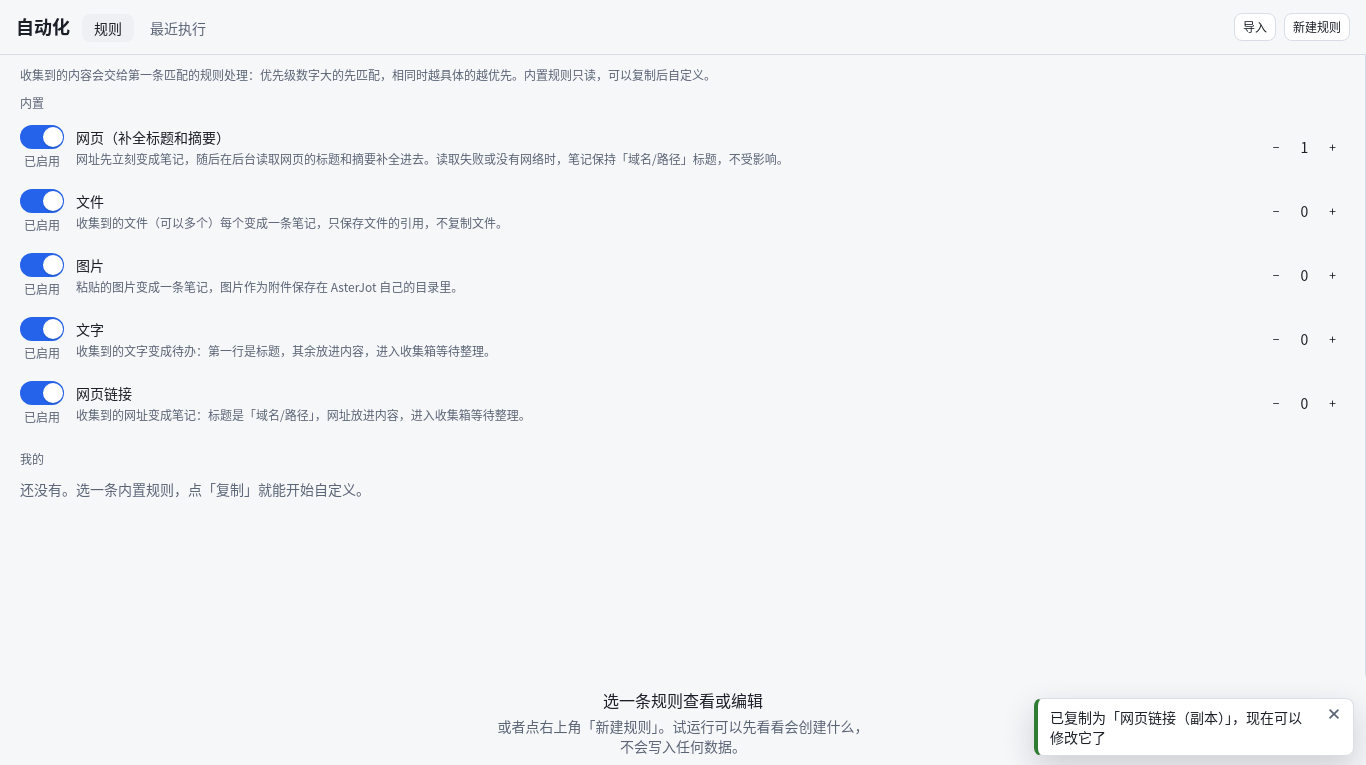
Workflow 管理页 › 有没保存的修改时换到别的规则会先提醒：继续编辑留在原处，放弃修改才换走
Click the button "网页链接 收集到的网址变成笔记：标题是「域名/路径」，网址放进内容，进入收集箱等待整理。" at (104, 393), box [76,383,1252,423]
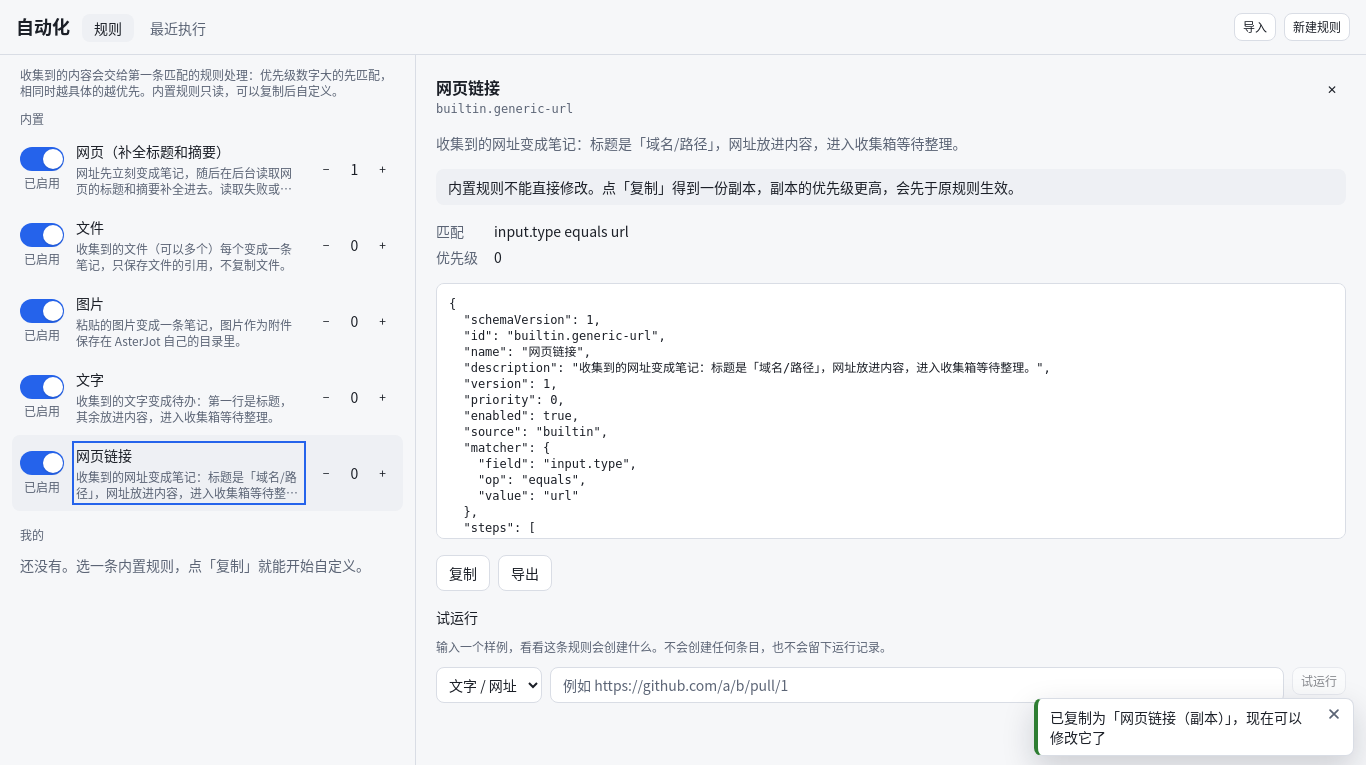
Click the button "复制" at (463, 573), box [436,555,490,591]
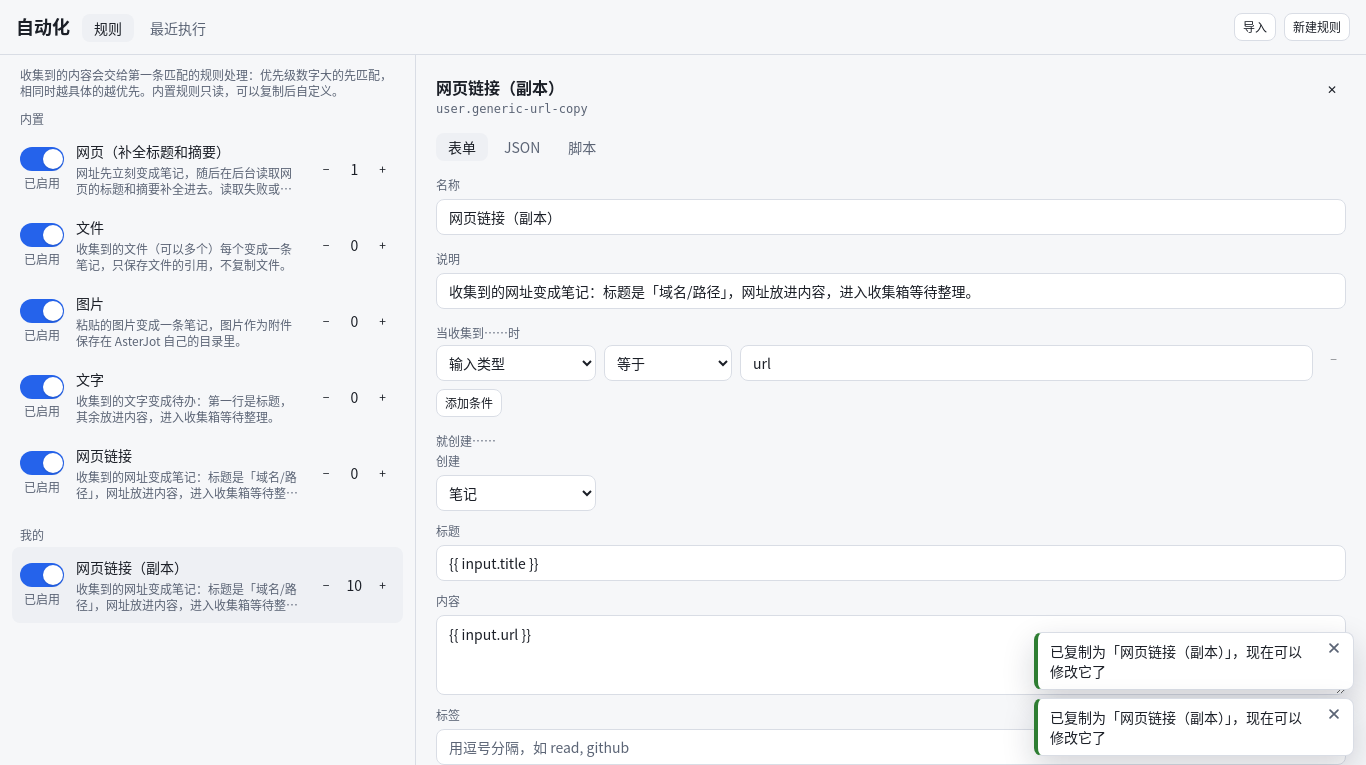
Check: the list named "我的" is shown, box [12,547,403,623]
Select "待办" in the dropdown labelled "创建" at (516, 493), box [436,475,596,511]
Click the button "网页链接 收集到的网址变成笔记：标题是「域名/路径」，网址放进内容，进入收集箱等待整理。" at (189, 473), box [76,445,302,501]
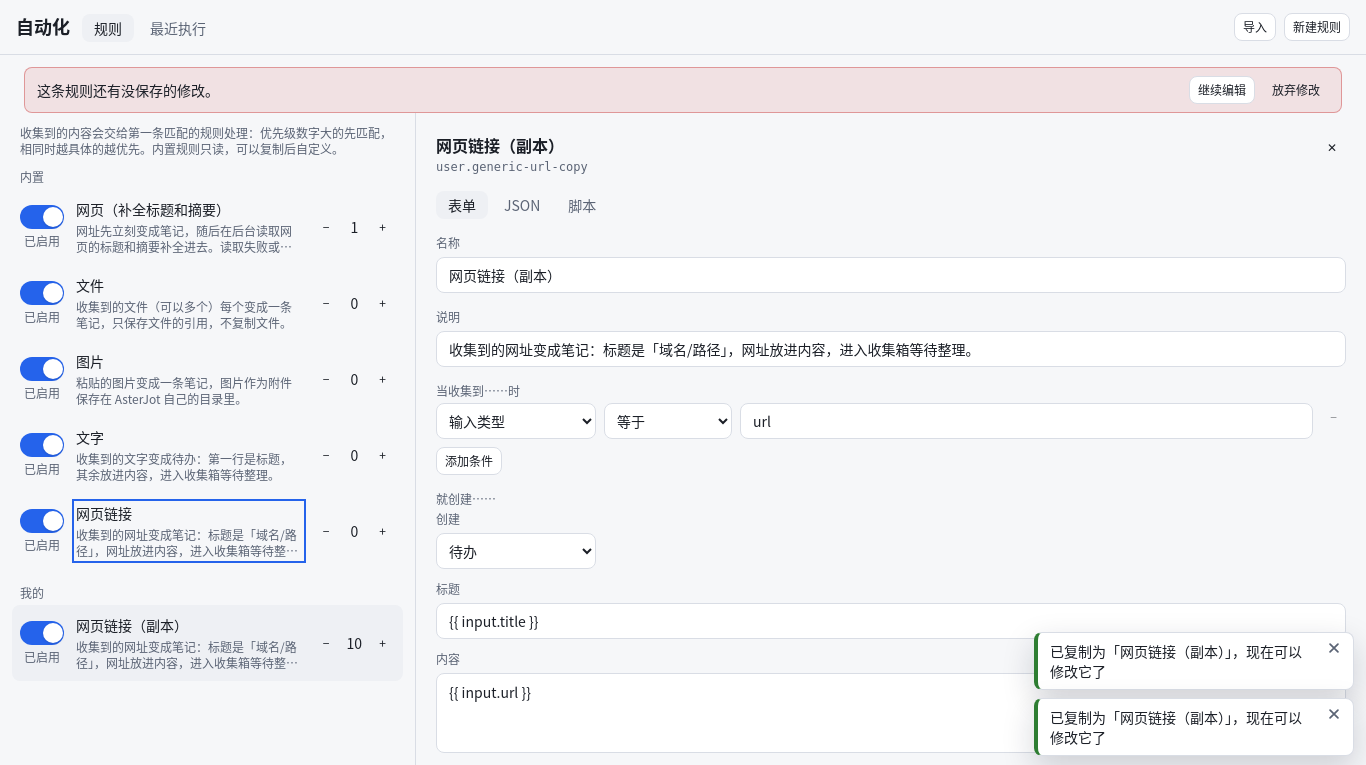
Check: the message "这条规则还有没保存的修改。 继续编辑 放弃修改" is shown, box [24,67,1342,113]
Click the button "继续编辑" at (1222, 90), box [1189,76,1255,104]
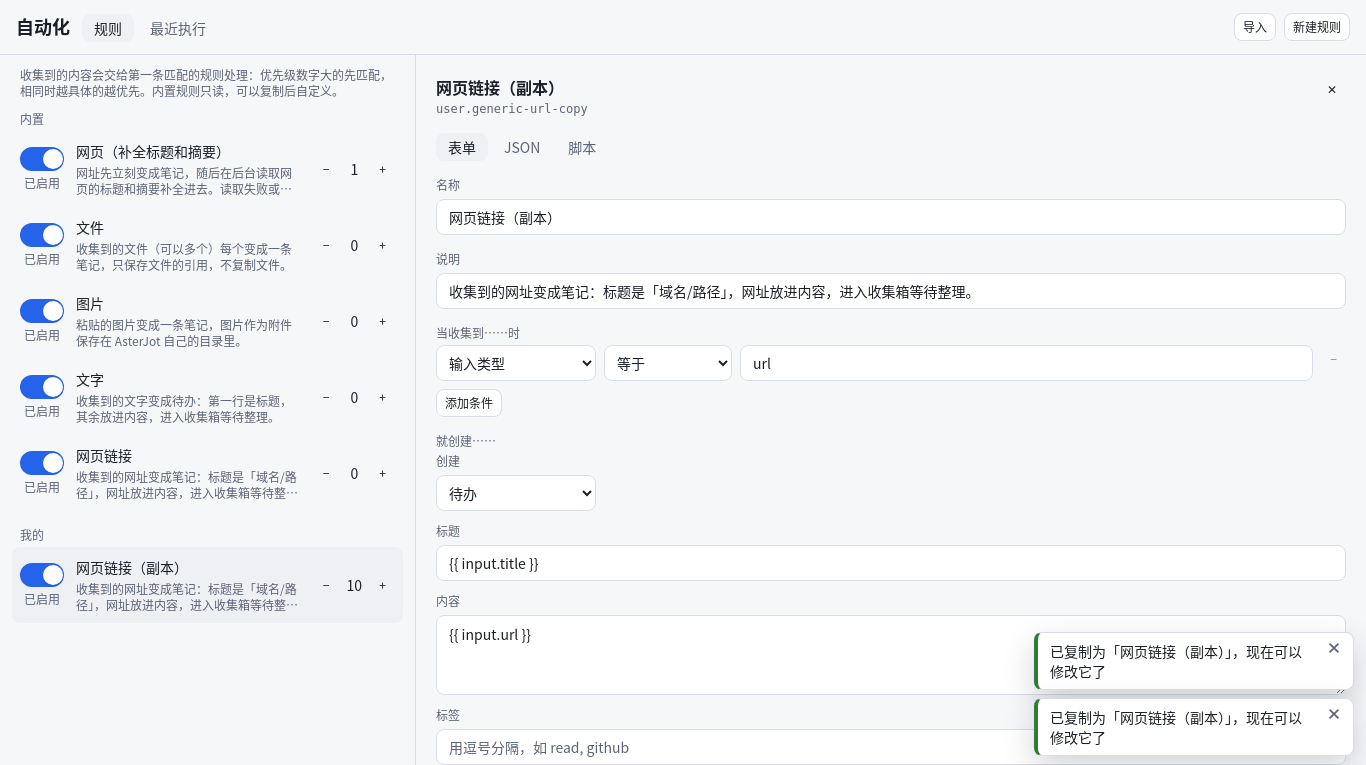
Check: the message "这条规则还有没保存的修改。 继续编辑 放弃修改" is gone
Click the button "网页链接 收集到的网址变成笔记：标题是「域名/路径」，网址放进内容，进入收集箱等待整理。" at (189, 473), box [76,445,302,501]
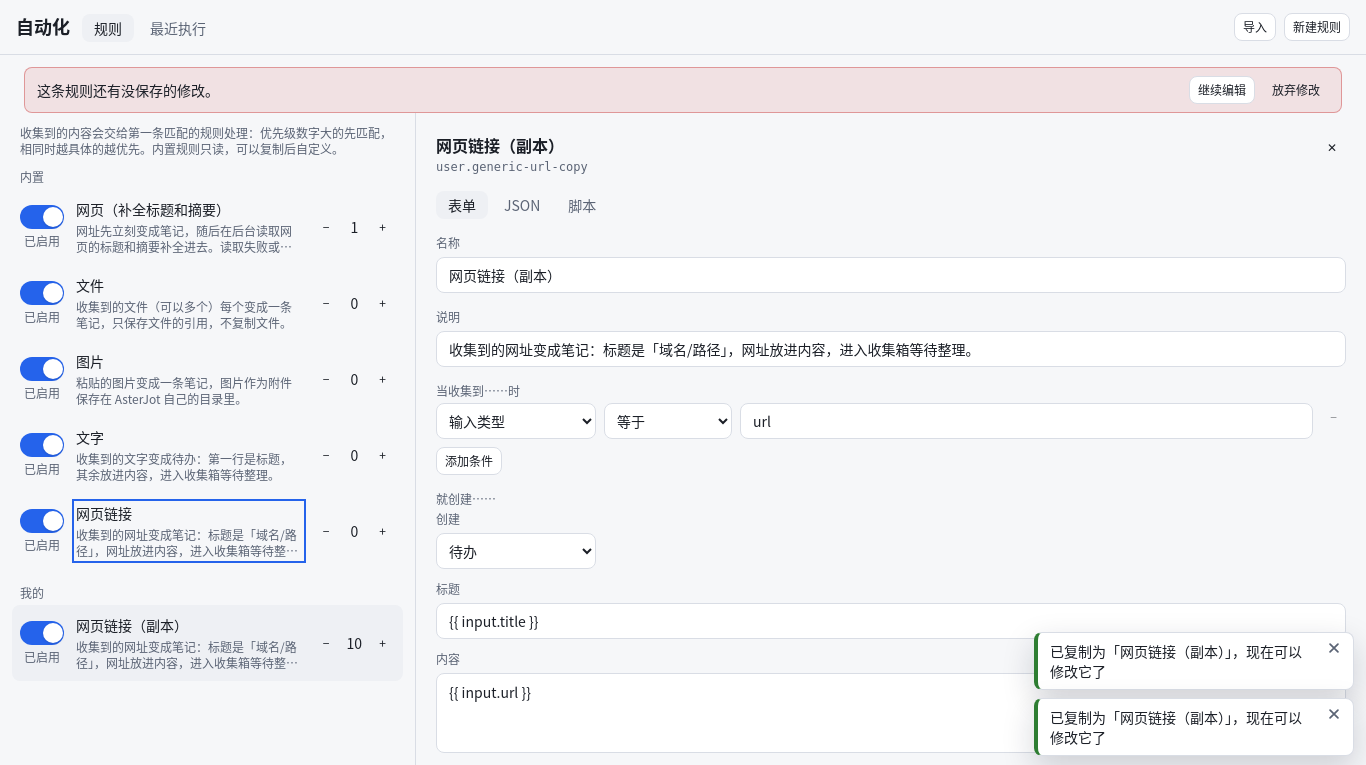
Click the button "放弃修改" at (1296, 90), box [1263,76,1329,104]
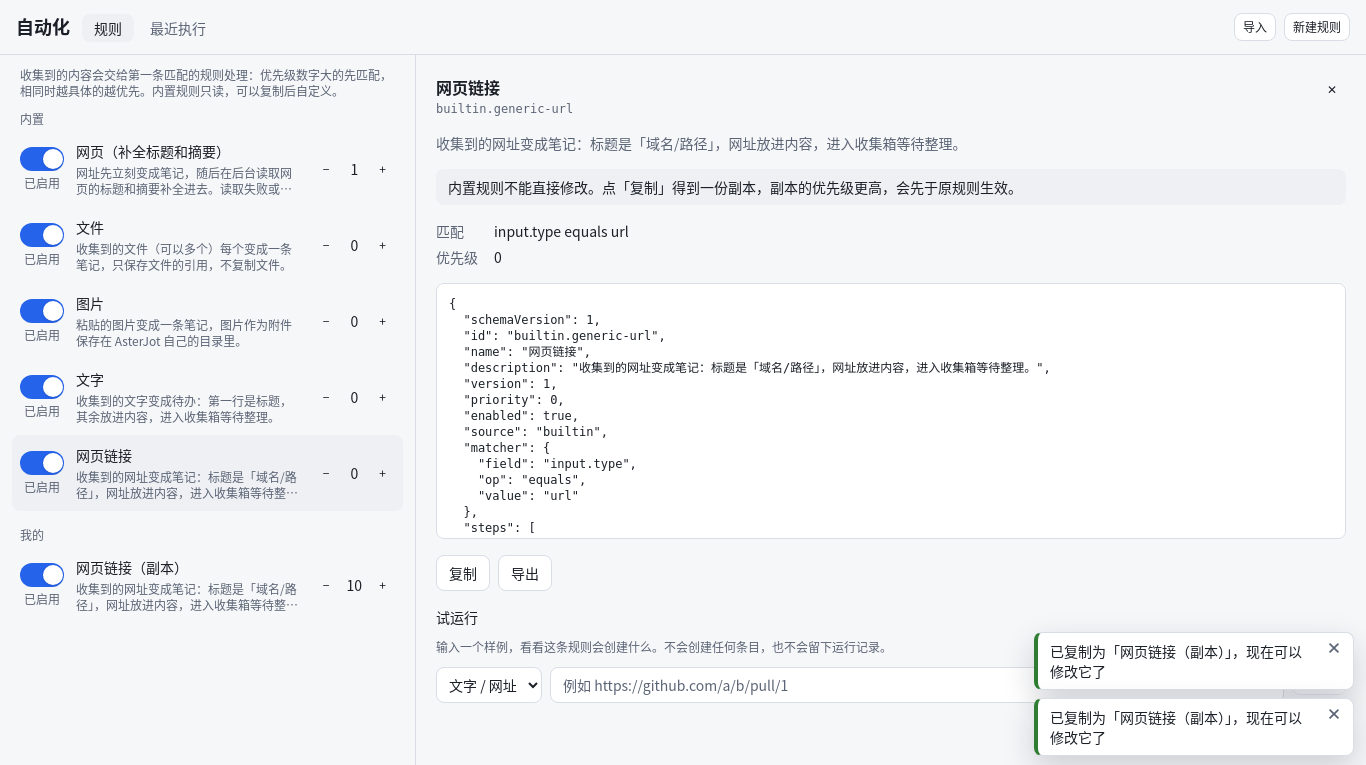
Check: the text "内置规则不能直接修改。点「复制」得到一份副本，副本的优先级更高，会先于原规则生效。" is shown, box [436,169,1346,205]
